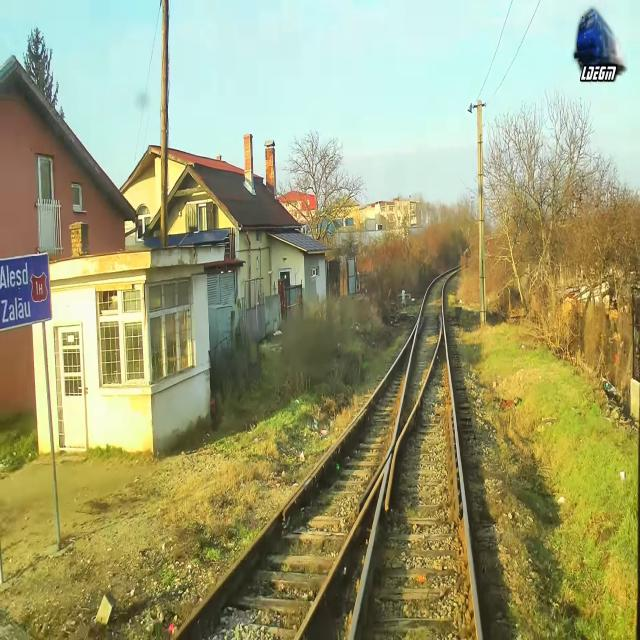rail-track: (178, 332, 414, 639), (353, 323, 477, 639), (396, 267, 459, 440)
